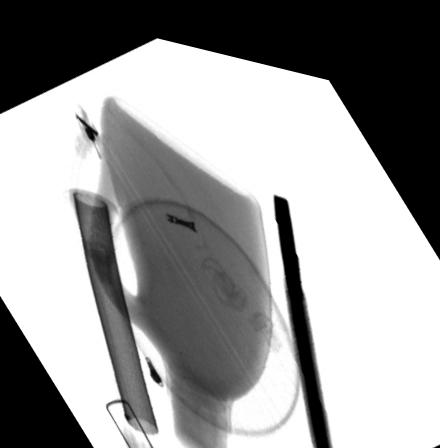Pliers: (272, 177, 336, 448)
